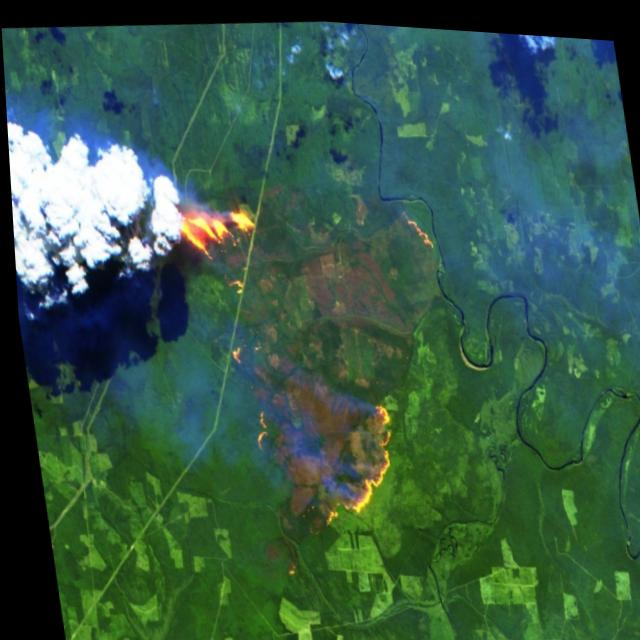fire: (301, 390, 400, 527), (161, 188, 269, 305), (402, 198, 434, 252)
